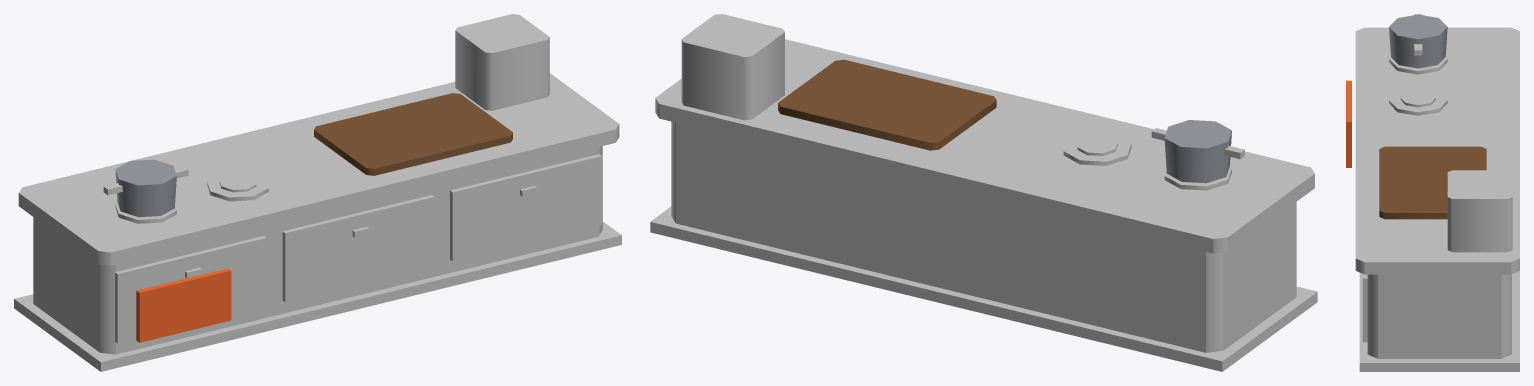
File: bench_fueled_stove.obj
3 views of the same model, side by side, from view 1: azimuth 30°, elevation 25°; view 2: azimuth 150°, elevation 25°; view 3: azimuth 270°, elevation 25° (orthographic). The views are drawn at different scales.
Parts seen in each view (by area): view 1: worktop, cabinet, middle_door, right_door, preparation_board, plinth, chimney, left_door, ember_fuel_opening, cooking_pot, right_burner, right_heat_plate; view 2: cabinet, worktop, preparation_board, plinth, chimney, cooking_pot, right_burner, right_heat_plate, left_burner; view 3: worktop, cabinet, preparation_board, chimney, plinth, cooking_pot, right_burner, ember_fuel_opening, right_heat_plate, left_burner, right_door.
Part boxes in pixels (bbox=[...]): worktop: bbox=[18, 73, 619, 265]; cabinet: bbox=[33, 146, 602, 354]; middle_door: bbox=[282, 195, 434, 302]; right_door: bbox=[450, 154, 601, 261]; preparation_board: bbox=[314, 93, 512, 175]; plinth: bbox=[14, 221, 621, 371]; chimney: bbox=[455, 14, 549, 110]; left_door: bbox=[115, 236, 266, 343]; ember_fuel_opening: bbox=[136, 268, 231, 342]; cooking_pot: bbox=[115, 159, 176, 217]; right_burner: bbox=[207, 171, 268, 201]; right_heat_plate: bbox=[219, 174, 256, 192]; cabinet: bbox=[671, 121, 1296, 352]; worktop: bbox=[655, 39, 1314, 253]; preparation_board: bbox=[778, 59, 996, 150]; plinth: bbox=[650, 206, 1317, 371]; chimney: bbox=[681, 14, 784, 120]; cooking_pot: bbox=[1164, 120, 1231, 183]; right_burner: bbox=[1063, 133, 1131, 165]; right_heat_plate: bbox=[1077, 136, 1117, 155]; left_burner: bbox=[1164, 167, 1231, 190]; worktop: bbox=[1355, 27, 1519, 274]; cabinet: bbox=[1367, 274, 1511, 358]; preparation_board: bbox=[1379, 146, 1486, 219]; chimney: bbox=[1447, 170, 1512, 252]; plinth: bbox=[1359, 271, 1519, 371]; cooking_pot: bbox=[1389, 14, 1447, 68]; right_burner: bbox=[1389, 87, 1447, 115]; ember_fuel_opening: bbox=[1346, 80, 1351, 167]; right_heat_plate: bbox=[1400, 90, 1435, 107]; left_burner: bbox=[1389, 57, 1447, 74]; right_door: bbox=[1362, 274, 1367, 342].
Bounding box in the file's own units: 2.84 × 0.92 × 0.89.
